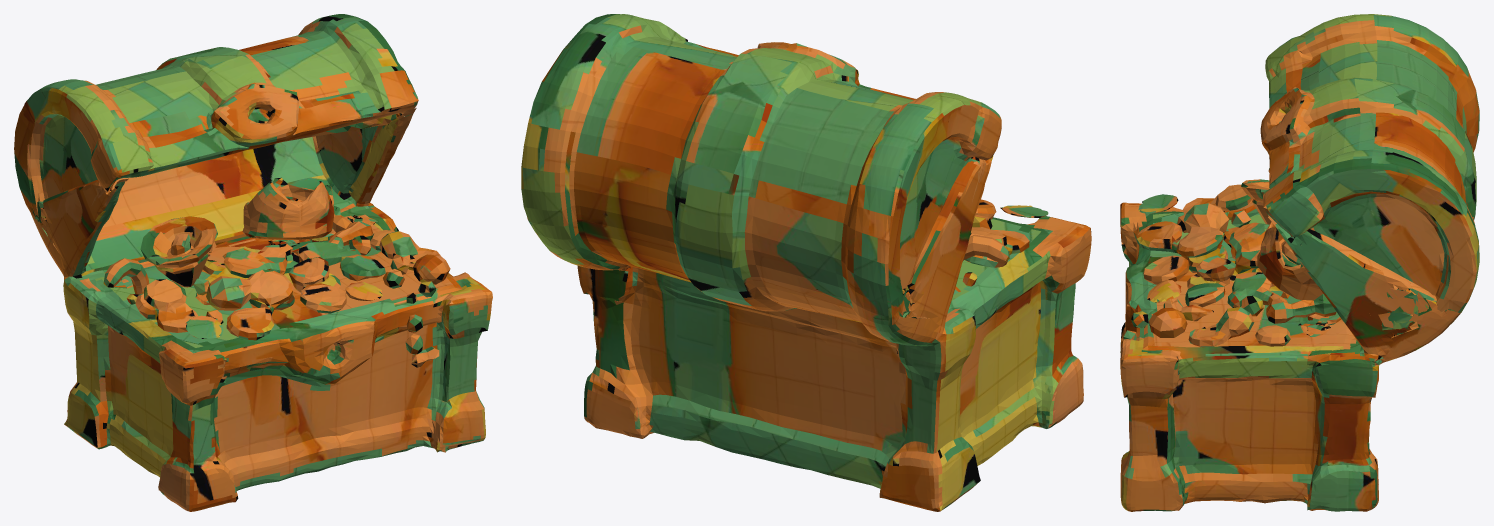
File: Chest open 2.obj
3 renders of one model, left to right at view 1: azimuth 30°, elevation 25°; view 2: azimuth 150°, elevation 25°; view 3: azimuth 270°, elevation 25°, orthographic. The views are drawn at different scales.
Visible parts, largest first — view 1: tripo_node_161da1d8-b939-4b84-9107-4aa1a3e9ce89; view 2: tripo_node_161da1d8-b939-4b84-9107-4aa1a3e9ce89; view 3: tripo_node_161da1d8-b939-4b84-9107-4aa1a3e9ce89.
Boxes of the visible parts, x1=… form: tripo_node_161da1d8-b939-4b84-9107-4aa1a3e9ce89: x1=14, y1=14, x2=492, y2=511; tripo_node_161da1d8-b939-4b84-9107-4aa1a3e9ce89: x1=521, y1=14, x2=1091, y2=511; tripo_node_161da1d8-b939-4b84-9107-4aa1a3e9ce89: x1=1120, y1=14, x2=1479, y2=511.
Size of the model in its own units: 0.9774 by 1 by 0.9307.
